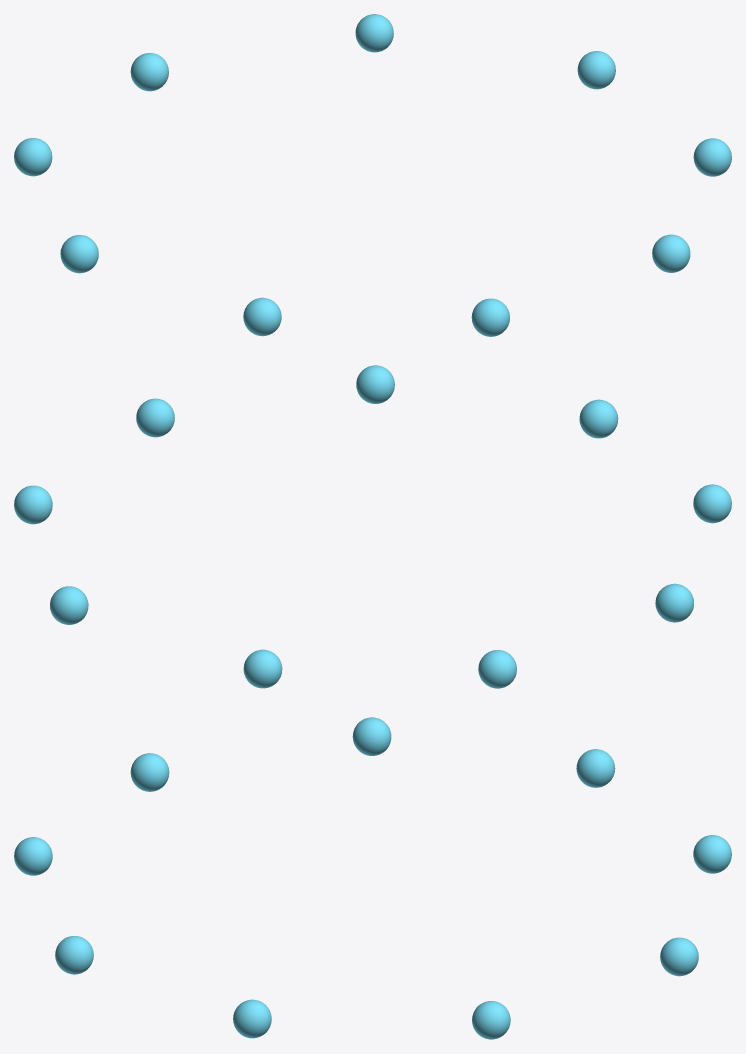
3 renders of one model, top to bottom at view 1: azimuth 30°, elevation 25°; view 2: azimuth 150°, elevation 25°; view 3: azimuth 270°, elevation 25°, orthographic.
Visible parts, largest first — view 1: Sphere049; view 2: Sphere049; view 3: Sphere049.
Boxes of the visible parts, x1=… form: Sphere049: x1=14, y1=14, x2=731, y2=336; Sphere049: x1=14, y1=365, x2=731, y2=688; Sphere049: x1=14, y1=717, x2=731, y2=1039.
Bounding box in the file's own units: 150 × 8.22 × 152.
